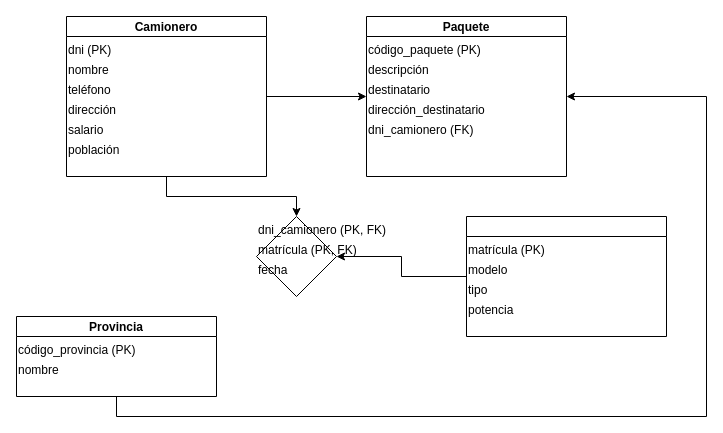
The diagram is 723 pixels wide and 433 high, and some of its shapes have lost their labels. Each missing label, with the box of its shape:
Camión: (466, 216, 666, 336)
Distribución: (256, 216, 336, 296)
